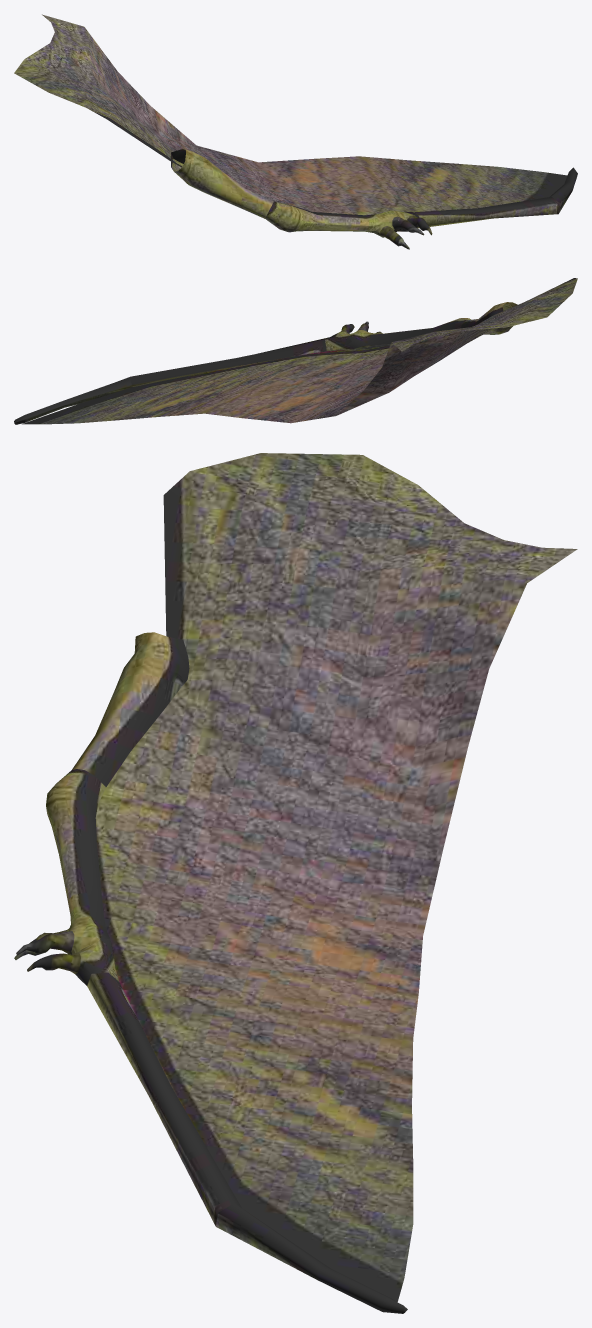
File: ala1.obj
3 views of the same model, one above another, from view 1: azimuth 30°, elevation 25°; view 2: azimuth 150°, elevation 25°; view 3: azimuth 270°, elevation 25° (orthographic). The views are drawn at different scales.
Visible parts, largest first — view 1: Mesh2 default_object c341_5818_0165_bf49_1 Model, Mesh1 default_object c341_5818_0165_bf49_1 Model; view 2: Mesh2 default_object c341_5818_0165_bf49_1 Model, Mesh1 default_object c341_5818_0165_bf49_1 Model; view 3: Mesh2 default_object c341_5818_0165_bf49_1 Model, Mesh1 default_object c341_5818_0165_bf49_1 Model.
Part boxes in pixels (x1,y1,x2,y2): Mesh2 default_object c341_5818_0165_bf49_1 Model: (14, 14, 567, 215); Mesh1 default_object c341_5818_0165_bf49_1 Model: (171, 149, 577, 249); Mesh2 default_object c341_5818_0165_bf49_1 Model: (22, 278, 577, 424); Mesh1 default_object c341_5818_0165_bf49_1 Model: (14, 302, 517, 424); Mesh2 default_object c341_5818_0165_bf49_1 Model: (95, 453, 577, 1302); Mesh1 default_object c341_5818_0165_bf49_1 Model: (14, 632, 407, 1313).
Bounding box in the file's own units: 2006 × 841 × 1049.
Materials: 1 (1 with a texture image).
